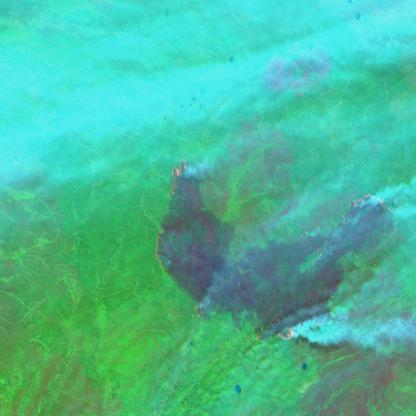fire: (152, 154, 210, 323), (274, 320, 299, 347)
